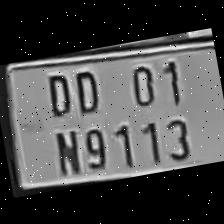0: (121, 56, 160, 112)
1: (104, 118, 138, 170), (131, 114, 164, 167), (154, 54, 186, 108)
3: (157, 111, 194, 164)
9: (75, 120, 111, 174)
D: (38, 65, 74, 120), (66, 62, 103, 115)
N: (46, 122, 82, 177)
